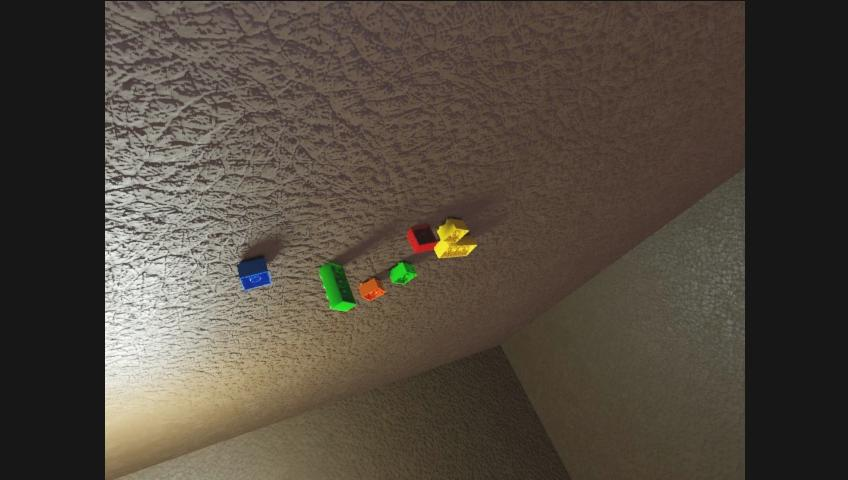2x2_blue: (237, 257, 271, 290)
2x2_green: (389, 261, 417, 284)
2x2_orange: (359, 277, 385, 301)
2x2_red: (407, 225, 437, 253)
2x2_yellow: (438, 218, 468, 243)
4x2_green: (320, 262, 356, 311)
4x2_yellow: (434, 236, 476, 258)
